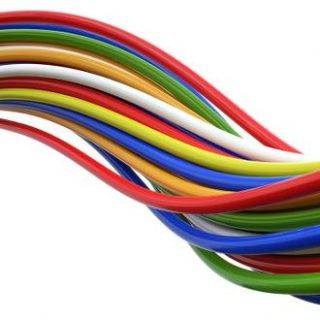Nonrec_Tangler: (2, 7, 319, 304)
